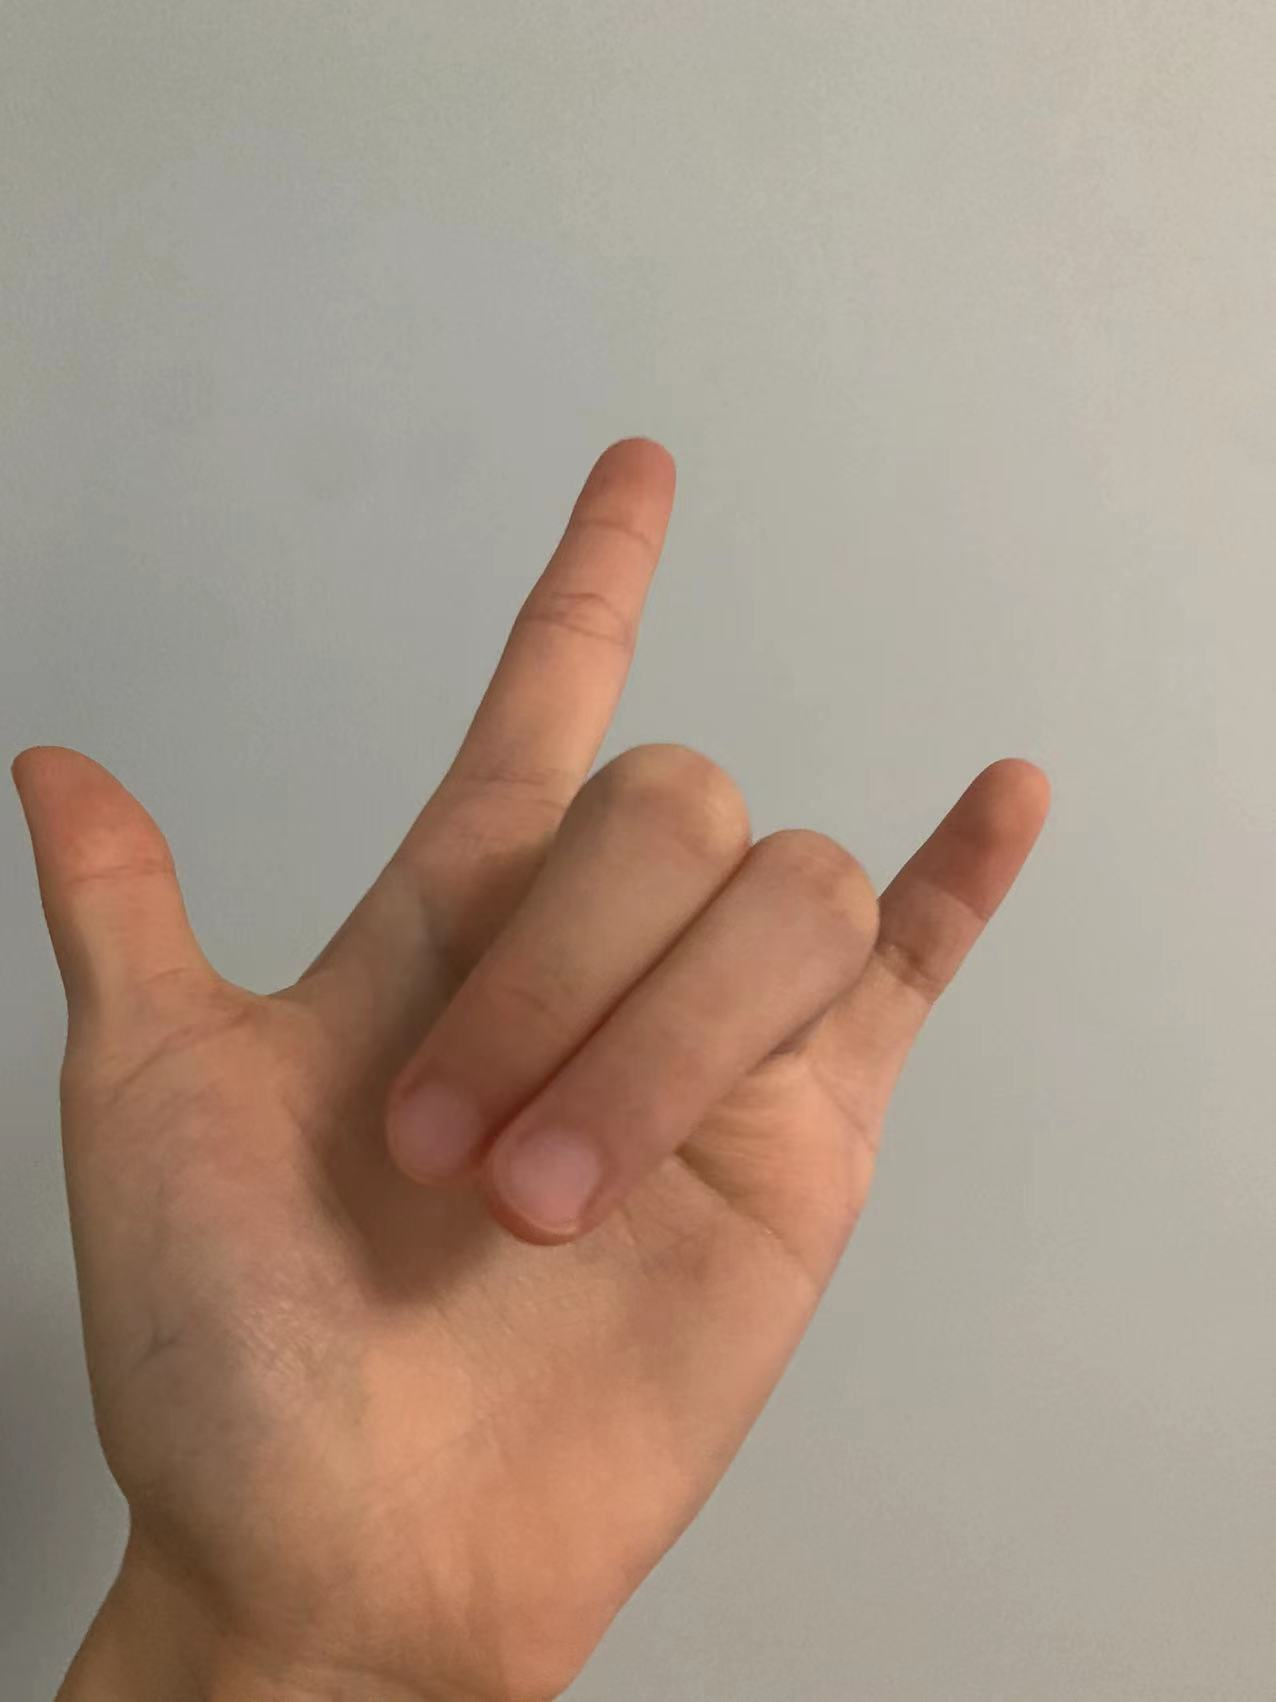back: (50, 422, 1058, 1589)
